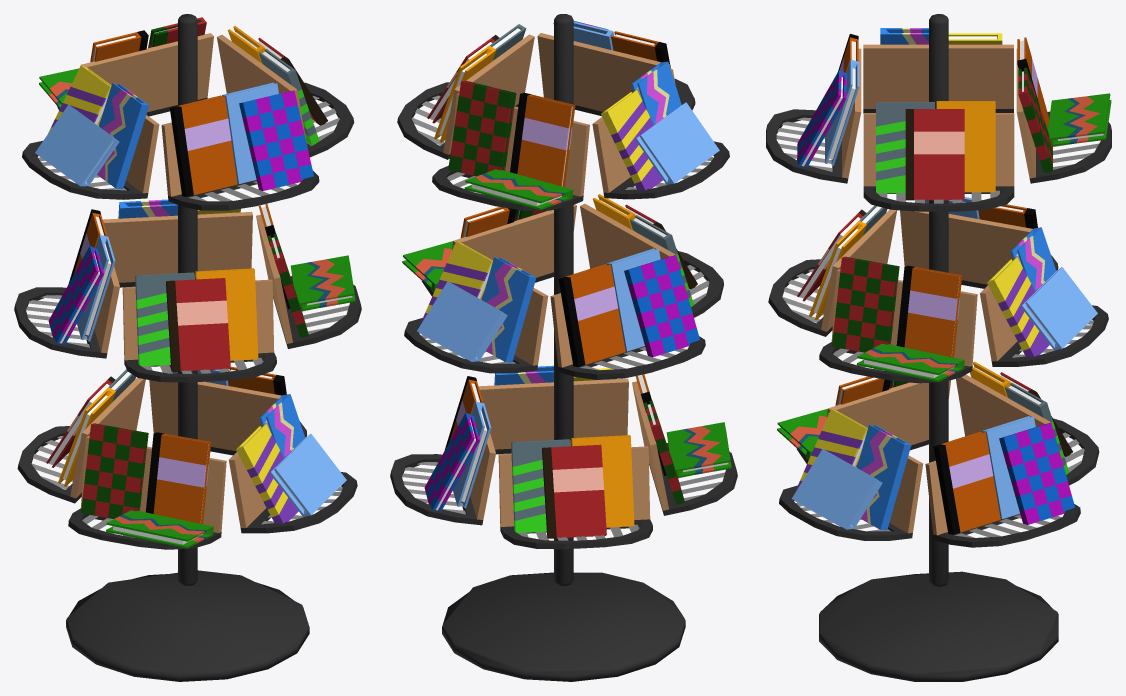
File: l_text_bookshelf_2.glb
3 views of the same model, side by side, from view 1: azimuth 30°, elevation 25°; view 2: azimuth 150°, elevation 25°; view 3: azimuth 270°, elevation 25° (orthographic).
Visible parts, largest first — view 1: ComicStand; view 2: ComicStand; view 3: ComicStand.
Boxes of the visible parts, x1=… form: ComicStand: x1=14, y1=14, x2=361, y2=681; ComicStand: x1=390, y1=14, x2=737, y2=681; ComicStand: x1=766, y1=14, x2=1111, y2=681.
Size of the model in its own units: 0.9532 by 1.8 by 0.9186.
Materials: 1 (1 with a texture image).
